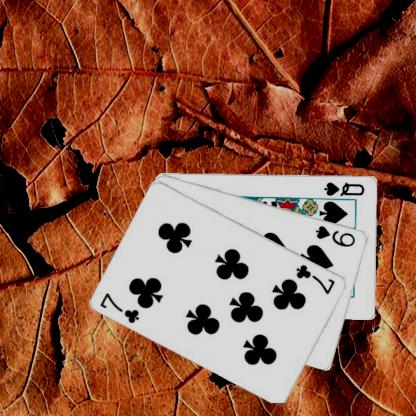7C: (293, 261, 337, 296), (97, 290, 141, 324)
9S: (313, 223, 357, 248)
QS: (321, 179, 366, 197)
